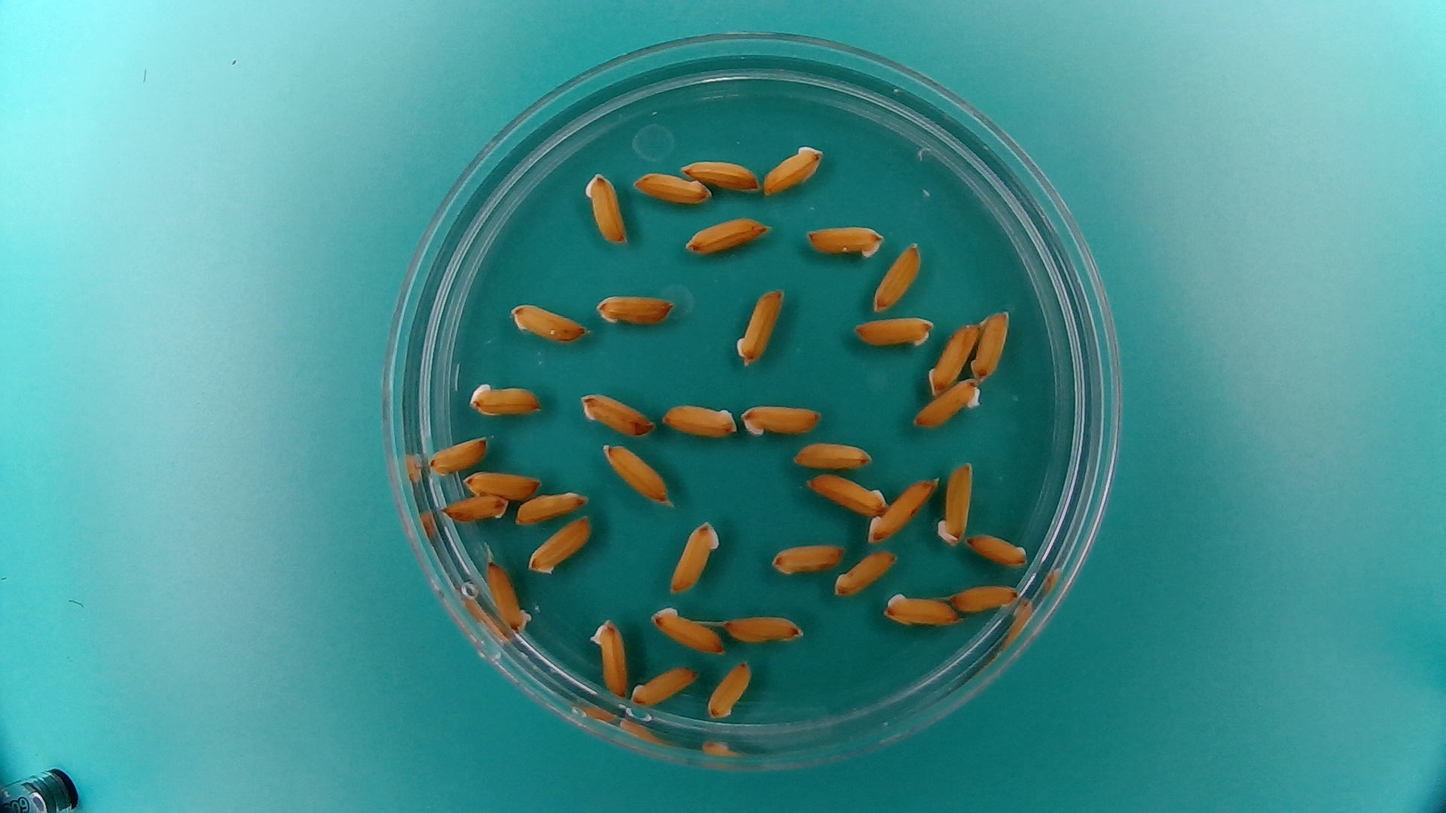no: (865, 473, 939, 547), (598, 439, 673, 507), (731, 283, 786, 367), (665, 516, 723, 595), (645, 601, 728, 655), (925, 318, 981, 396), (526, 512, 594, 575), (869, 239, 923, 315), (909, 376, 985, 430), (575, 388, 657, 438), (682, 213, 773, 258), (630, 659, 702, 715), (758, 140, 826, 198), (505, 298, 590, 344), (737, 397, 825, 440), (586, 614, 630, 700), (483, 556, 532, 632), (804, 470, 885, 515), (848, 311, 938, 351), (934, 457, 974, 547), (582, 169, 628, 247), (831, 546, 898, 599), (593, 289, 679, 329), (802, 220, 888, 260), (658, 398, 739, 440), (627, 166, 712, 206), (677, 155, 763, 194), (719, 608, 807, 646), (880, 587, 961, 627), (767, 537, 847, 577), (970, 306, 1012, 382), (465, 379, 545, 418), (704, 658, 753, 721), (790, 437, 876, 472), (514, 486, 590, 525), (426, 431, 490, 477), (460, 466, 544, 501), (947, 580, 1022, 614), (965, 531, 1030, 569), (439, 492, 509, 522)
